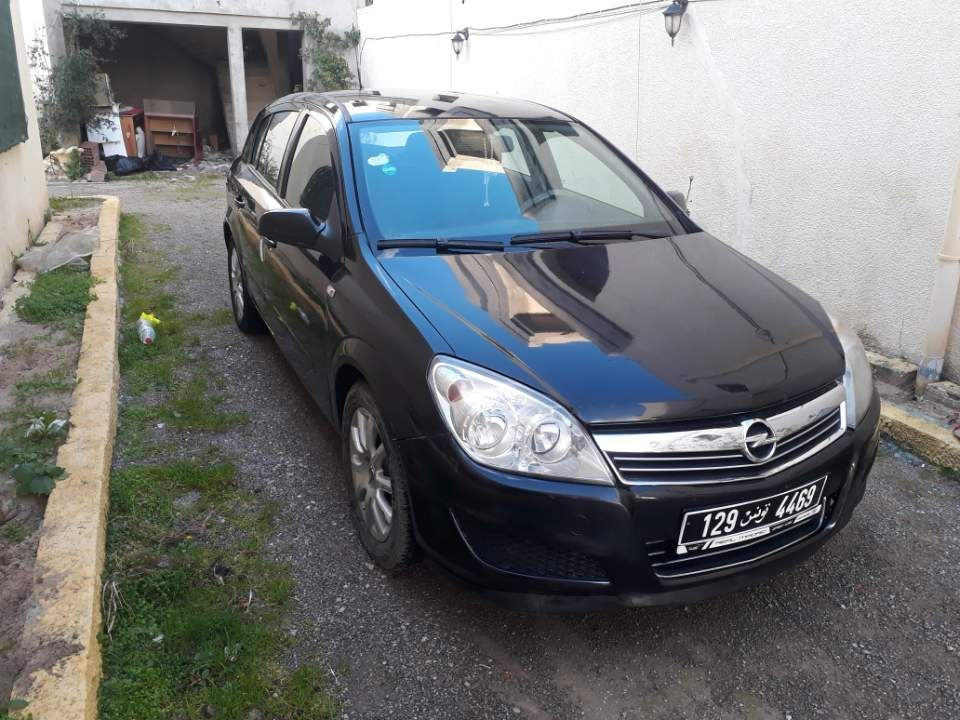LP: (677, 478, 832, 548)
